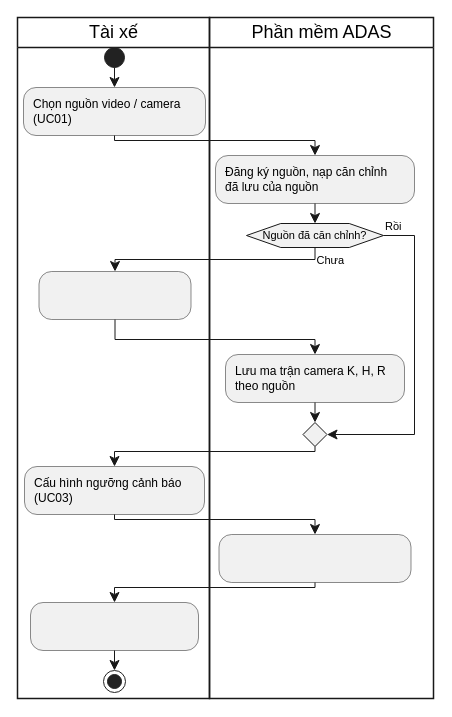
Image size: 452x717. Some labels were removed from this diagram. The shapes that lost their labels are listed below. From the top down, each one's centre as x and y in pixels, then its label:
At (114,295): "Căn chỉnh camera IPM (UC02)".
At (314,558): "Giám sát realtime & cảnh báo (UC04)".
At (114,626): "Xem lại nhật ký cảnh báo (UC05)".
